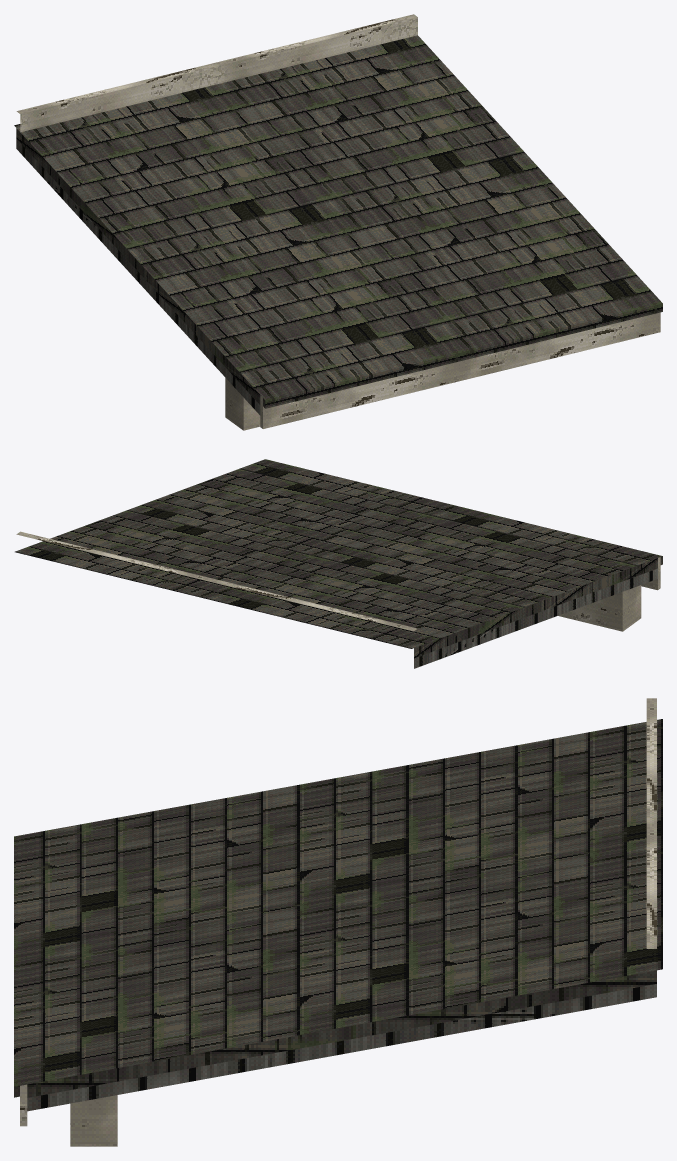
The model's file is house_porch_roof.glb.
3 views of the same model, one above another, from view 1: azimuth 30°, elevation 25°; view 2: azimuth 150°, elevation 25°; view 3: azimuth 270°, elevation 25° (orthographic). The views are drawn at different scales.
Parts seen in each view (by area): view 1: house_porch_roof; view 2: house_porch_roof; view 3: house_porch_roof.
Part boxes in pixels (x1,y1,x2,y2): house_porch_roof: (14,14,662,430); house_porch_roof: (15,459,662,668); house_porch_roof: (14,698,662,1146).
Bounding box in the file's own units: 2 × 0.736 × 2.19.
Materials: 3 (3 with a texture image).
